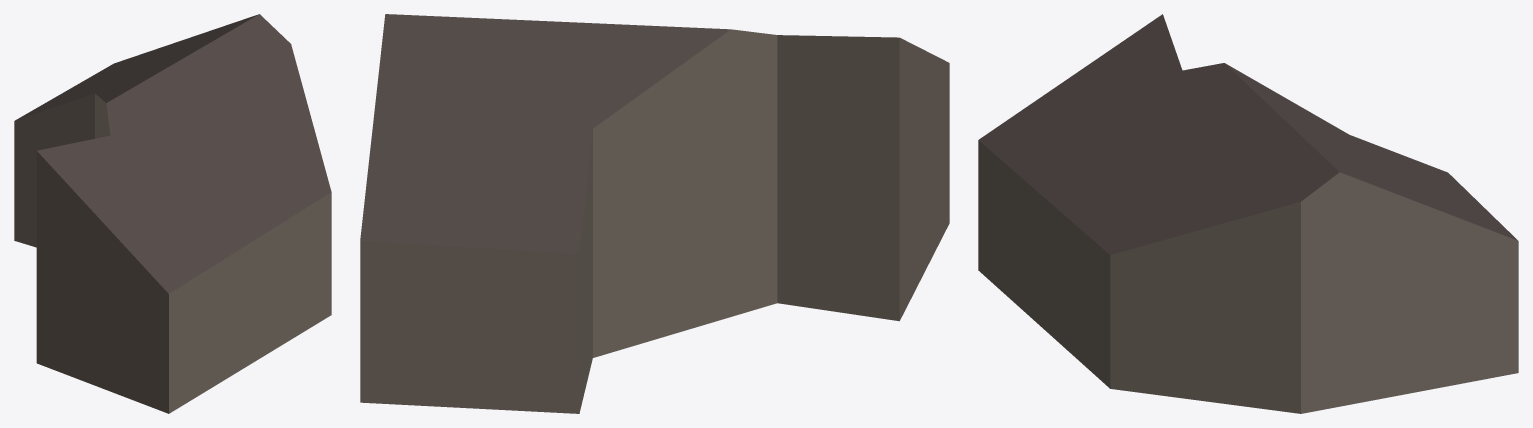
The picture shows the model from 3 angles, left to right: view 1: azimuth 30°, elevation 25°; view 2: azimuth 150°, elevation 25°; view 3: azimuth 270°, elevation 25°; orthographic projection. The views are drawn at different scales.
Visible parts, largest first — view 1: HP-w1512911267; view 2: HP-w1512911267; view 3: HP-w1512911267.
Boxes of the visible parts, x1,y1,x2,y2 form: HP-w1512911267: (14, 14, 331, 413); HP-w1512911267: (360, 14, 949, 413); HP-w1512911267: (978, 14, 1518, 413).
Bounding box in the file's own units: 16.65 × 10.79 × 22.53.
